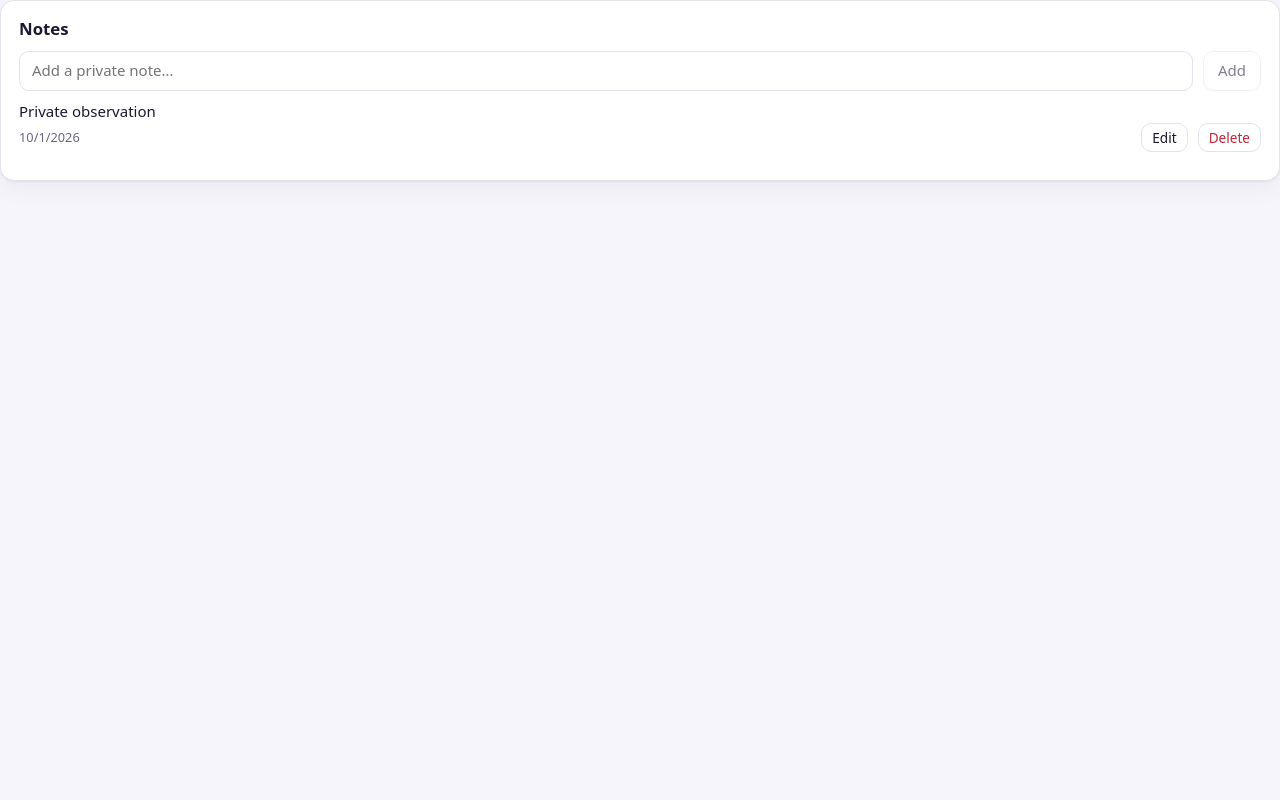
Test case: Private student notes › reports failed deletion and preserves the displayed note
The width and height of the screenshot is (1280, 800).
Click the button with aria-label "Delete note: Private observation" at (1229, 138), box [1198,123,1261,152]
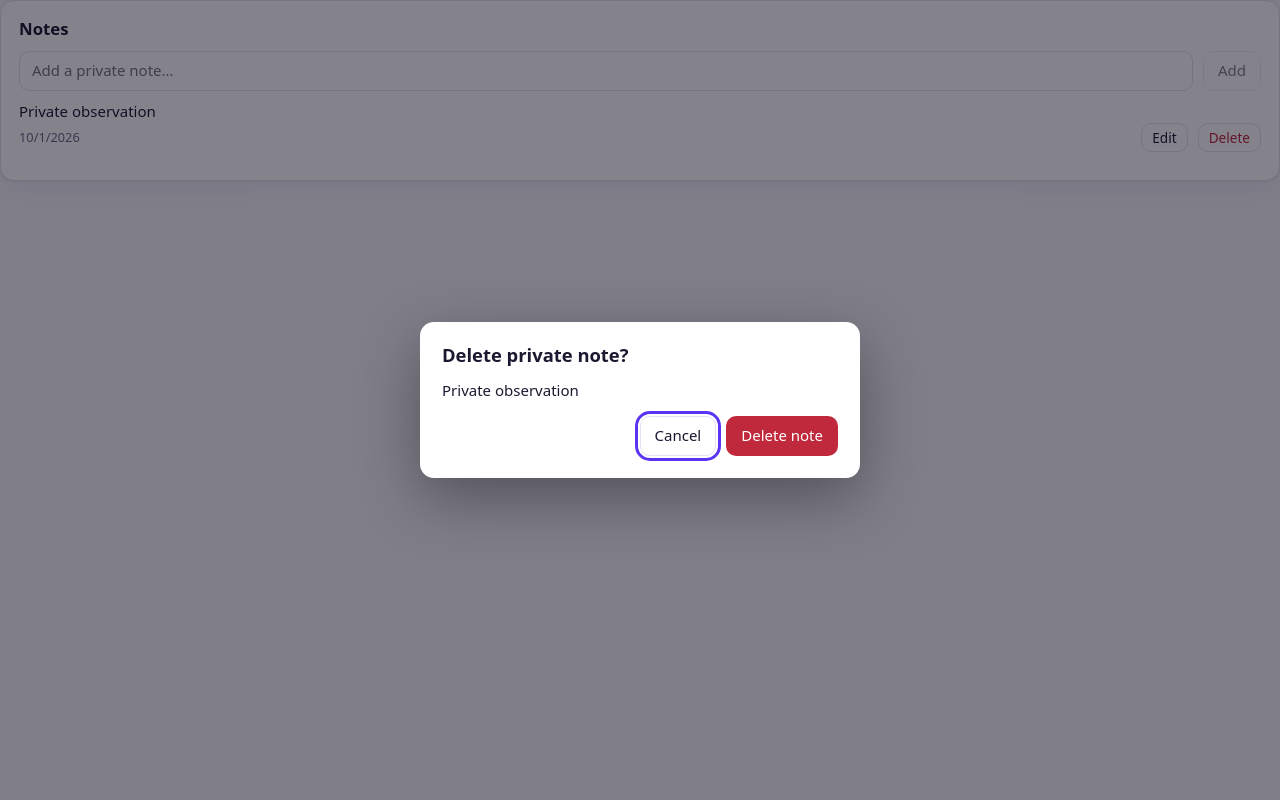
Click the button "Delete note" at (782, 436), box [726,416,838,456]
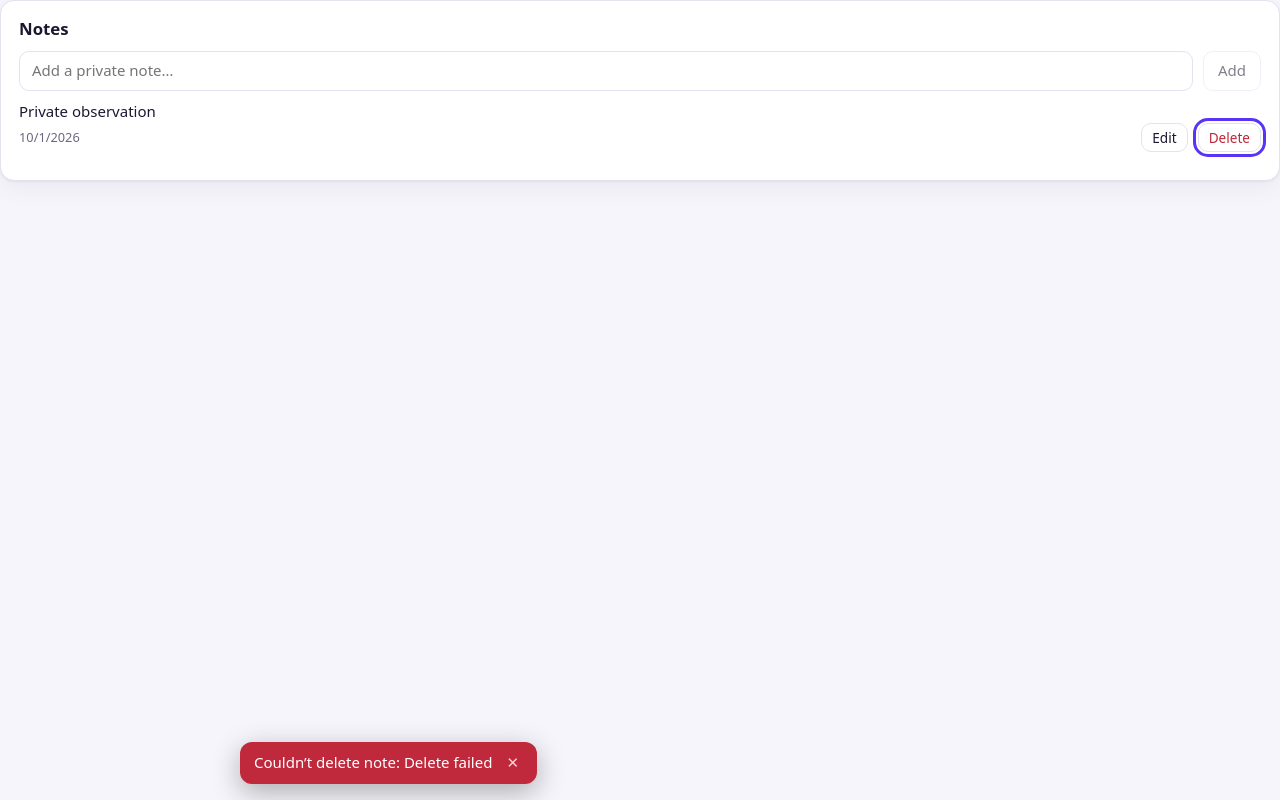
Expected: the text "Private observation" is shown, [19,101,156,121]
Result: the text "Couldn’t delete note: Delete failed" is shown at [254,752,492,774]
